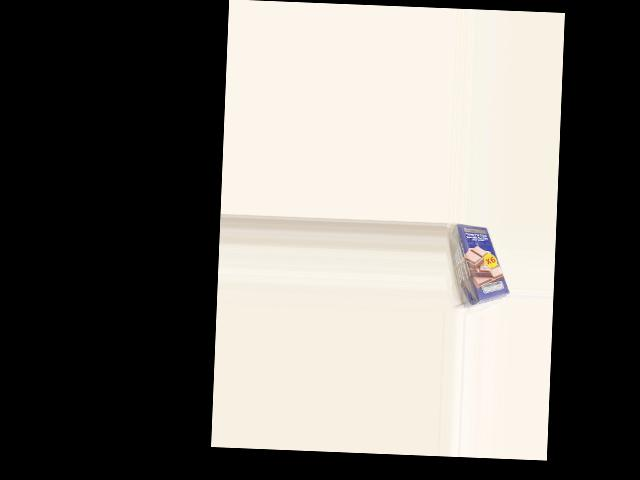chocolate: (448, 223, 513, 304)
